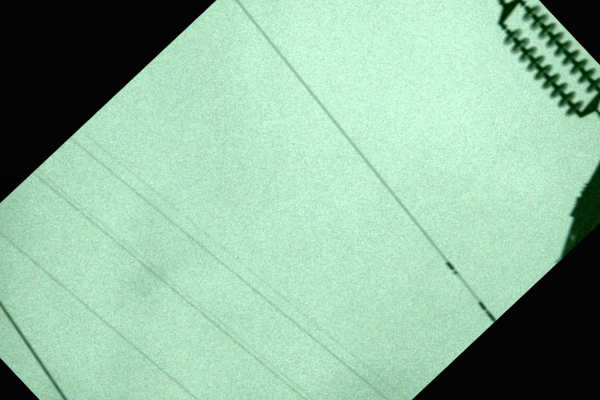damper: (478, 300, 496, 320)
damper_defect: (444, 259, 461, 277)
